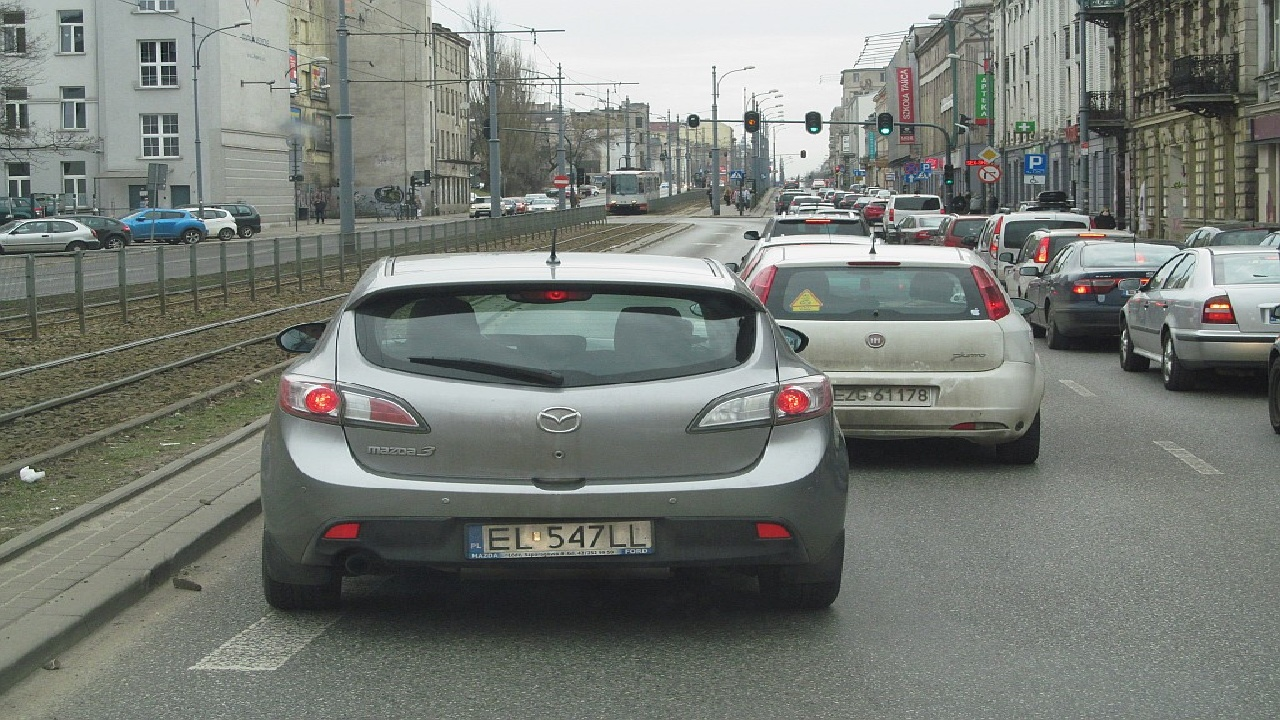B2: (554, 176, 569, 188)
B22: (978, 164, 1002, 183)
D1: (978, 146, 1001, 164)
D18: (1025, 154, 1045, 175)
Green: (808, 112, 818, 132), (881, 113, 889, 134)
